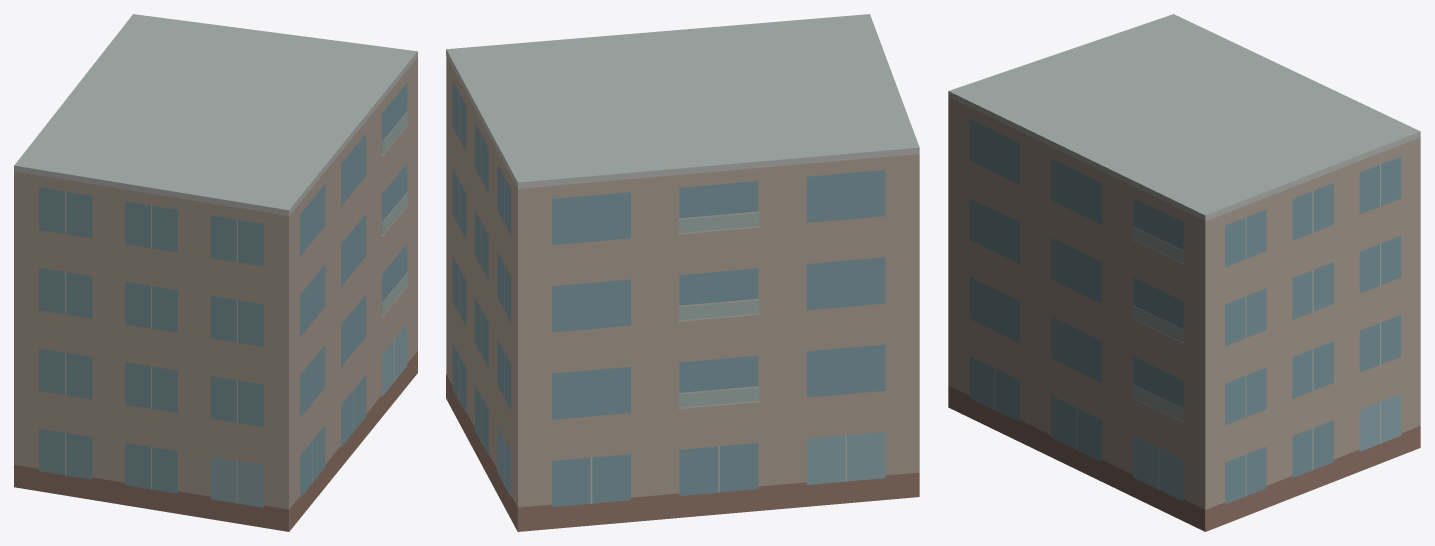
File: survey-upis-33039979.glb
3 views of the same model, side by side, from view 1: azimuth 30°, elevation 25°; view 2: azimuth 150°, elevation 25°; view 3: azimuth 270°, elevation 25° (orthographic). The views are drawn at different scales.
Parts seen in each view (by area): view 1: survey-upis-33039979.tmp; view 2: survey-upis-33039979.tmp; view 3: survey-upis-33039979.tmp.
Part boxes in pixels (<box>): survey-upis-33039979.tmp: <box>14,14,417,531</box>; survey-upis-33039979.tmp: <box>446,14,919,531</box>; survey-upis-33039979.tmp: <box>948,14,1420,531</box>.
Bounding box in the file's own units: 18.25 × 13.35 × 18.07.
